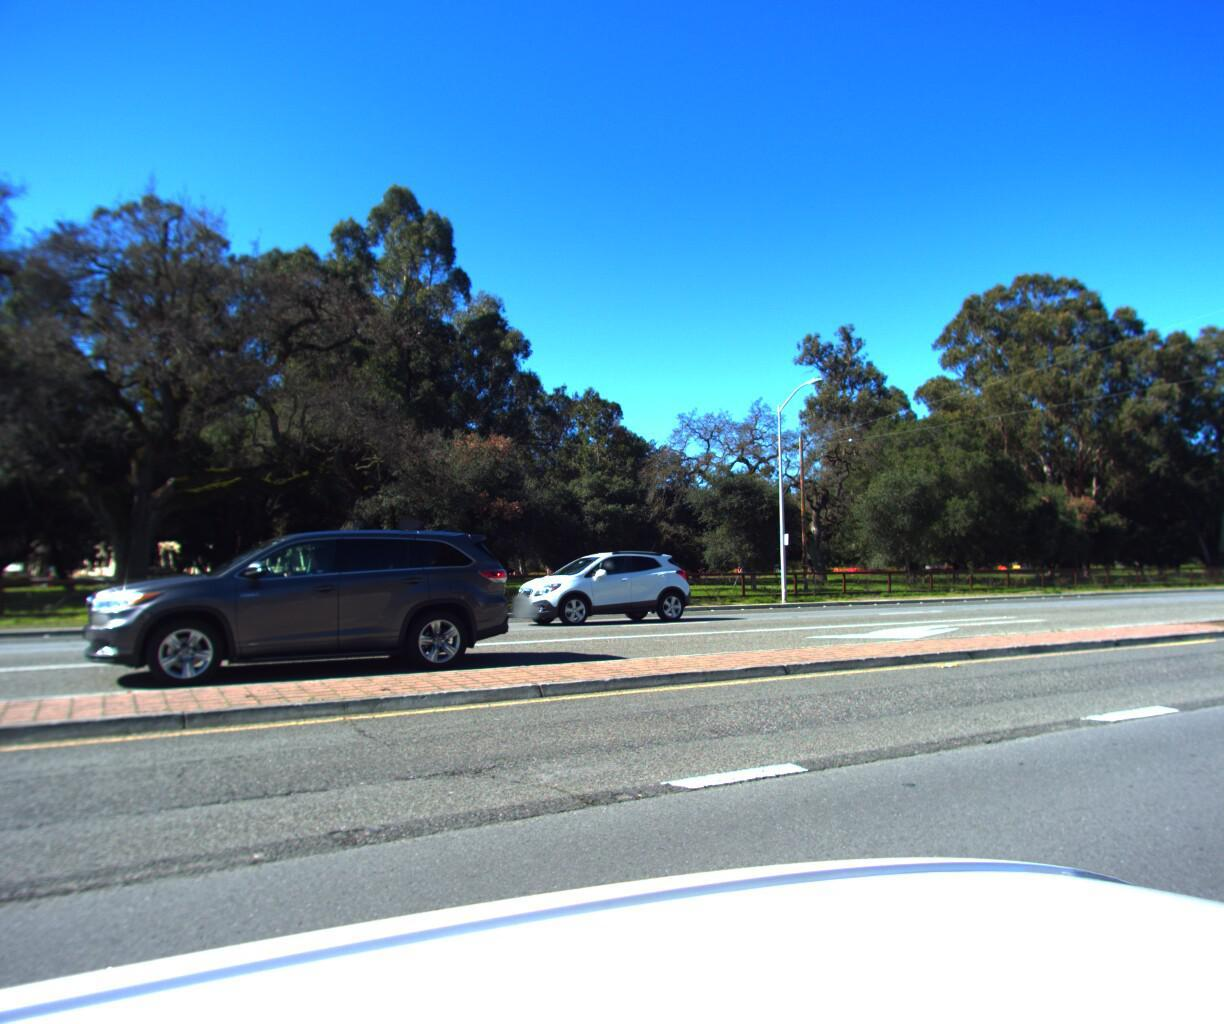car: (68, 515, 535, 692), (499, 536, 702, 622)
